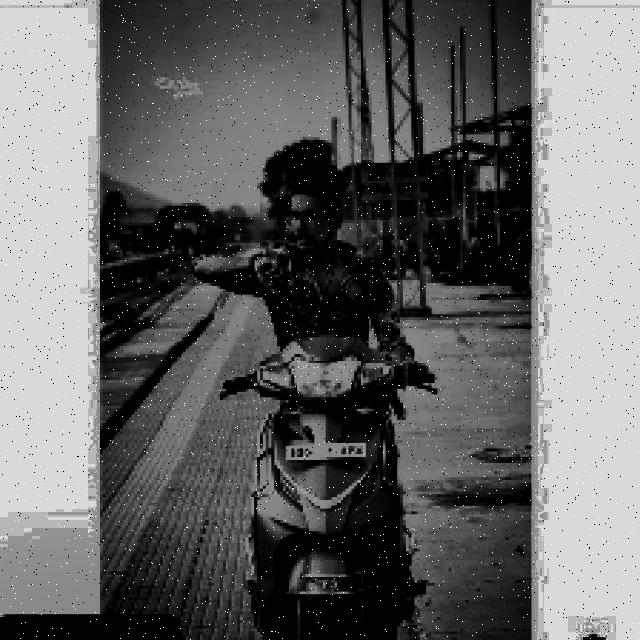Bike: (266, 335, 430, 639)
